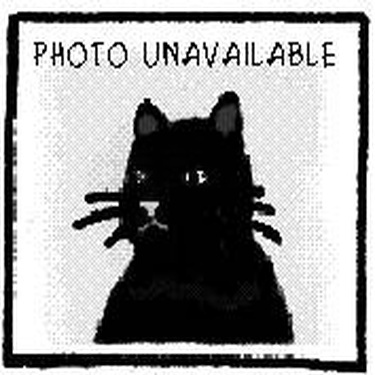cat: (64, 78, 301, 348)
